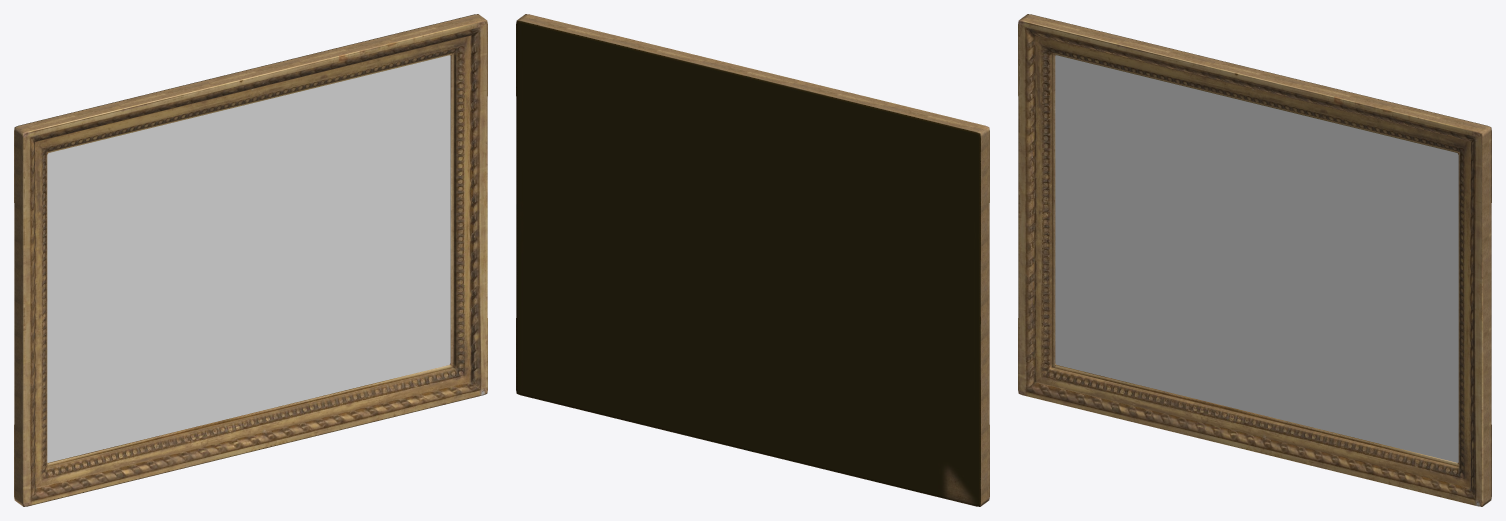
File: gilt-frame.glb
3 views of the same model, side by side, from view 1: azimuth 30°, elevation 25°; view 2: azimuth 150°, elevation 25°; view 3: azimuth 330°, elevation 25° (orthographic).
Visible parts, largest first — view 1: fancy_picture_frame_01_canvas, fancy_picture_frame_01; view 2: fancy_picture_frame_01; view 3: fancy_picture_frame_01_canvas, fancy_picture_frame_01.
Part boxes in pixels (x1,y1,x2,y2): fancy_picture_frame_01_canvas: (47, 55, 450, 462); fancy_picture_frame_01: (14, 14, 487, 506); fancy_picture_frame_01: (516, 14, 989, 506); fancy_picture_frame_01_canvas: (1055, 55, 1458, 462); fancy_picture_frame_01: (1018, 14, 1491, 506).
Bounding box in the file's own units: 0.603 × 0.4641 × 0.02.
Materials: 2 (1 with a texture image).
